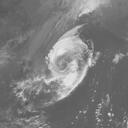cyclone: (45, 32, 93, 94)
